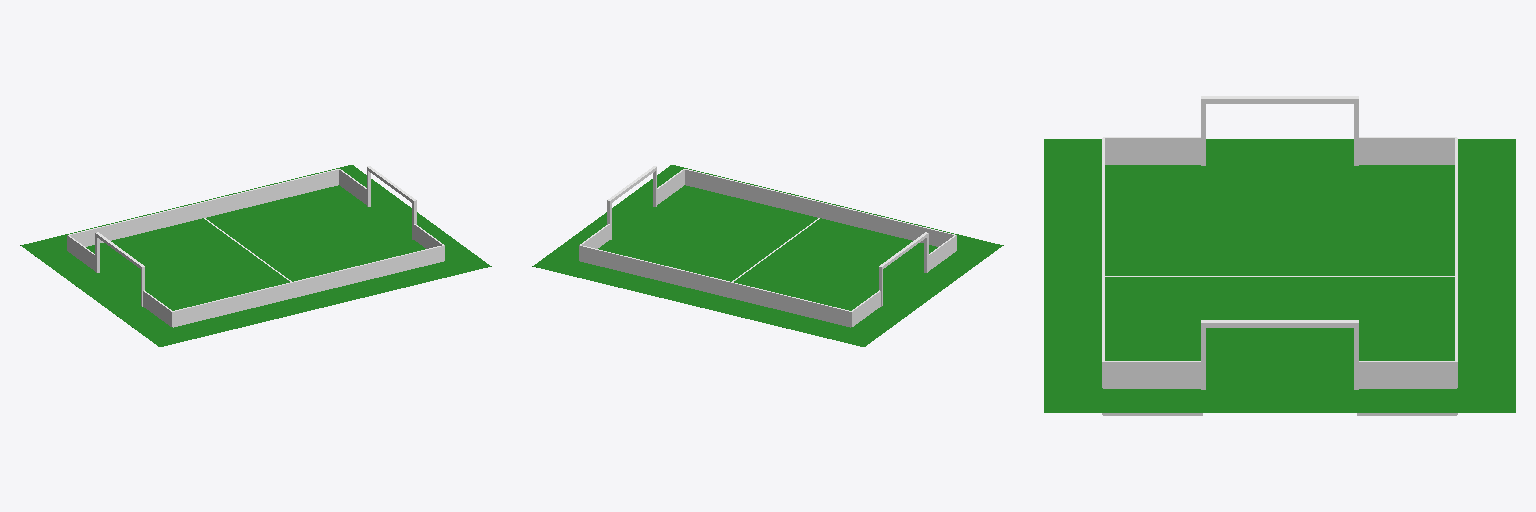
The robot description file, URDF, robot "soccer":
<?xml version="1.0" encoding="utf-8"?>
<!-- =================================================================================== -->
<!-- |    This document was autogenerated by xacro from soccer_robot.xacro             | -->
<!-- |    EDITING THIS FILE BY HAND IS NOT RECOMMENDED                                 | -->
<!-- =================================================================================== -->
<robot name="soccer">
  <material name="white">
    <color rgba="1.0 1.0 1.0 1.0"/>
  </material>
  <material name="green">
    <color rgba="0.2 0.6 0.2 1.0"/>
  </material>
  <material name="blue">
    <color rgba="0.0 0.0 1.0 1.0"/>
  </material>
  <material name="red">
    <color rgba="1.0 0.0 0.0 1.0"/>
  </material>
  <material name="yellow">
    <color rgba="1.0 1.0 0.0 1.0"/>
  </material>
  <link name="field">
    <visual>
      <geometry>
        <box size="11 8 0.001"/>
      </geometry>
      <material name="green"/>
    </visual>
  </link>

  <!-- 左边线 -->
  <joint name="line1_part1_joint" type="fixed">
    <parent link="field"/>
    <child link="line1_part1_link"/>
    <origin xyz="4.5 2.15 0"/>
  </joint>
  <link name="line1_part1_link">
    <visual>
      <geometry>
        <box size="0.05 1.7 1"/>
      </geometry>
      <material name="white"/>
    </visual>
    <inertial>
      <origin xyz="0 0 0" rpy="0 0 0"/>
      <mass value="10.0"/>
      <inertia ixx="0.0" iyy="0.0" izz="0.0" ixy="0.0" ixz="0.0" iyz="0.0"/>
    </inertial>
    <collision>
      <origin rpy="0 0 0" xyz="0 0 0"/>
      <geometry>
        <box size="0.05 1.7 1"/>
      </geometry>
    </collision>
  </link>
  <joint name="line1_part2_joint" type="fixed">
    <parent link="field"/>
    <child link="line1_part2_link"/>
    <origin xyz="4.5 -2.15 0"/>
  </joint>
  <link name="line1_part2_link">
    <visual>
      <geometry>
        <box size="0.05 1.7 1"/>
      </geometry>
      <material name="white"/>
    </visual>
    <inertial>
      <origin xyz="0 0 0" rpy="0 0 0"/>
      <mass value="10.0"/>
      <inertia ixx="0.0" iyy="0.0" izz="0.0" ixy="0.0" ixz="0.0" iyz="0.0"/>
    </inertial>
    <collision>
      <origin rpy="0 0 0" xyz="0 0 0"/>
      <geometry>
        <box size="0.05 1.7 1"/>
      </geometry>
    </collision>
  </link>

  <!-- 右边线 -->
  <joint name="line5_part1_joint" type="fixed">
    <parent link="field"/>
    <child link="line5_part1_link"/>
    <origin xyz="-4.5 -2.15 0"/>
  </joint>
  <link name="line5_part1_link">
    <visual>
      <geometry>
        <box size="0.05 1.7 1"/>
      </geometry>
      <material name="white"/>
    </visual>
    <inertial>
      <origin xyz="0 0 0" rpy="0 0 0"/>
      <mass value="10.0"/>
      <inertia ixx="0.0" iyy="0.0" izz="0.0" ixy="0.0" ixz="0.0" iyz="0.0"/>
    </inertial>
    <collision>
      <origin rpy="0 0 0" xyz="0 0 0"/>
      <geometry>
        <box size="0.05 1.7 1"/>
      </geometry>
    </collision>
  </link>
  <joint name="line5_part2_joint" type="fixed">
    <parent link="field"/>
    <child link="line5_part2_link"/>
    <origin xyz="-4.5 2.15 0"/>
  </joint>
  <link name="line5_part2_link">
    <visual>
      <geometry>
        <box size="0.05 1.7 1"/>
      </geometry>
      <material name="white"/>
    </visual>
    <inertial>
      <origin xyz="0 0 0" rpy="0 0 0"/>
      <mass value="10.0"/>
      <inertia ixx="0.0" iyy="0.0" izz="0.0" ixy="0.0" ixz="0.0" iyz="0.0"/>
    </inertial>
    <collision>
      <origin rpy="0 0 0" xyz="0 0 0"/>
      <geometry>
        <box size="0.05 1.7 1"/>
      </geometry>
    </collision>
  </link>
  

  <joint name="line2_joint" type="fixed">
    <parent link="field"/>
    <child link="line2_link"/>
    <origin xyz="0 3 0"/>
  </joint>
  <link name="line2_link">
    <visual>
      <geometry>
        <box size="9 0.05 1"/>
      </geometry>
      <material name="white"/>
    </visual>
    <inertial>
      <origin xyz="0 0 0" rpy="0 0 0"/>
      <mass value="10.0"/>
      <inertia ixx="0.0" iyy="0.0" izz="0.0" ixy="0.0" ixz="0.0" iyz="0.0"/>
    </inertial>
    <collision>
      <origin rpy="0 0 0" xyz="0 0 0"/>
      <geometry>
        <box size="9 0.05 1"/>
      </geometry>
    </collision>
  </link>

  <joint name="line3_joint" type="fixed">
    <parent link="field"/>
    <child link="line3_link"/>
    <origin xyz="0 -3 0"/>
  </joint>
  <link name="line3_link">
    <visual>
      <geometry>
        <box size="9 0.05 1"/>
      </geometry>
      <material name="white"/>
    </visual>
    <inertial>
      <origin xyz="0 0 0" rpy="0 0 0"/>
      <mass value="10.0"/>
      <inertia ixx="0.0" iyy="0.0" izz="0.0" ixy="0.0" ixz="0.0" iyz="0.0"/>
    </inertial>
    <collision>
      <origin rpy="0 0 0" xyz="0 0 0"/>
      <geometry>
        <box size="9 0.05 1"/>
      </geometry>
    </collision>
  </link>

  <!-- 中线 -->
  <joint name="line4_joint" type="fixed">
    <parent link="field"/>
    <child link="line4_link"/>
  </joint>
  <link name="line4_link">
    <visual>
      <geometry>
        <box size="0.05 6 0.002"/>
      </geometry>
      <material name="white"/>
    </visual>
  </link>
  
  
  
  <joint name="right_goal_post1_joint" type="fixed">
    <parent link="field"/>
    <child link="right_goal_post1_link"/>
    <origin xyz="4.5 -1.3 0.6"/>
  </joint>
  <link name="right_goal_post1_link">
    <visual>
      <geometry>
        <box size="0.10 0.10 1.2"/>
      </geometry>
      <material name="white"/>
    </visual>
    <inertial>
      <origin xyz="0 0 0" rpy="0 0 0"/>
      <mass value="10.0"/>
      <inertia ixx="0.0" iyy="0.0" izz="0.0" ixy="0.0" ixz="0.0" iyz="0.0"/>
    </inertial>
    <collision>
      <origin rpy="0 0 0" xyz="0 0 0"/>
      <geometry>
        <box size="0.10 0.10 1.2"/>
      </geometry>
    </collision>
  </link>
  <joint name="left_goal_post1_joint" type="fixed">
    <parent link="field"/>
    <child link="left_goal_post1_link"/>
    <origin xyz="4.5 1.3 0.6"/>
  </joint>
  <link name="left_goal_post1_link">
    <visual>
      <geometry>
        <box size="0.10 0.10 1.2"/>
      </geometry>
      <material name="white"/>
    </visual>
    <inertial>
      <origin xyz="0 0 0" rpy="0 0 0"/>
      <mass value="10.0"/>
      <inertia ixx="0.0" iyy="0.0" izz="0.0" ixy="0.0" ixz="0.0" iyz="0.0"/>
    </inertial>
    <collision>
      <origin rpy="0 0 0" xyz="0 0 0"/>
      <geometry>
        <box size="0.10 0.10 1.2"/>
      </geometry>
    </collision>
  </link>
  <joint name="top_goal_post1_joint" type="fixed">
    <parent link="field"/>
    <child link="top_goal_post1_link"/>
    <origin xyz="4.5 0 1.2"/>
  </joint>
  <link name="top_goal_post1_link">
    <visual>
      <geometry>
        <box size="0.10 2.7 0.10"/>
      </geometry>
      <material name="white"/>
    </visual>
    <inertial>
      <origin xyz="0 0 0" rpy="0 0 0"/>
      <mass value="10.0"/>
      <inertia ixx="0.0" iyy="0.0" izz="0.0" ixy="0.0" ixz="0.0" iyz="0.0"/>
    </inertial>
    <collision>
      <origin rpy="0 0 0" xyz="0 0 0"/>
      <geometry>
        <box size="0.10 2.7 0.10"/>
      </geometry>
    </collision>
  </link>
  <joint name="right_goal_post2_joint" type="fixed">
    <parent link="field"/>
    <child link="right_goal_post2_link"/>
    <origin xyz="-4.5 -1.3 0.6"/>
  </joint>
  <link name="right_goal_post2_link">
    <visual>
      <geometry>
        <box size="0.10 0.10 1.2"/>
      </geometry>
      <material name="white"/>
    </visual>
    <inertial>
      <origin xyz="0 0 0" rpy="0 0 0"/>
      <mass value="10.0"/>
      <inertia ixx="0.0" iyy="0.0" izz="0.0" ixy="0.0" ixz="0.0" iyz="0.0"/>
    </inertial>
    <collision>
      <origin rpy="0 0 0" xyz="0 0 0"/>
      <geometry>
        <box size="0.10 0.10 1.2"/>
      </geometry>
    </collision>
  </link>
  <joint name="left_goal_post2_joint" type="fixed">
    <parent link="field"/>
    <child link="left_goal_post2_link"/>
    <origin xyz="-4.5 1.3 0.6"/>
  </joint>
  <link name="left_goal_post2_link">
    <visual>
      <geometry>
        <box size="0.10 0.10 1.2"/>
      </geometry>
      <material name="white"/>
    </visual>
    <inertial>
      <origin xyz="0 0 0" rpy="0 0 0"/>
      <mass value="10.0"/>
      <inertia ixx="0.0" iyy="0.0" izz="0.0" ixy="0.0" ixz="0.0" iyz="0.0"/>
    </inertial>
    <collision>
      <origin rpy="0 0 0" xyz="0 0 0"/>
      <geometry>
        <box size="0.10 0.10 1.2"/>
      </geometry>
    </collision>
  </link>
  <joint name="top_goal_post2_joint" type="fixed">
    <parent link="field"/>
    <child link="top_goal_post2_link"/>
    <origin xyz="-4.5 0 1.2"/>
  </joint>
  <link name="top_goal_post2_link">
    <visual>
      <geometry>
        <box size="0.10 2.7 0.10"/>
      </geometry>
      <material name="white"/>
    </visual>
    <inertial>
      <origin xyz="0 0 0" rpy="0 0 0"/>
      <mass value="10.0"/>
      <inertia ixx="0.0" iyy="0.0" izz="0.0" ixy="0.0" ixz="0.0" iyz="0.0"/>
    </inertial>
    <collision>
      <origin rpy="0 0 0" xyz="0 0 0"/>
      <geometry>
        <box size="0.10 2.7 0.10"/>
      </geometry>
    </collision>
  </link>
  
</robot>

--- What the picture shows (computed from the rendered views, not written in the file) ---
The picture shows the robot from 3 angles, left to right: view 1: azimuth 30°, elevation 25°; view 2: azimuth 150°, elevation 25°; view 3: azimuth 270°, elevation 25°; orthographic projection.
Robot: soccer — 14 links, 13 joints (13 fixed); root link field; default pose: every joint at zero.
Links seen in each view (by area): view 1: field, line3_link, line2_link; view 2: field, line2_link, line3_link; view 3: field, line1_part1_link, line1_part2_link, line5_part1_link, line5_part2_link, top_goal_post2_link, top_goal_post1_link, line2_link, line3_link.
Boxes of the visible links, x1,y1,x2,y2 form: field: (20, 165, 491, 346); line3_link: (172, 245, 443, 327); line2_link: (69, 169, 338, 246); field: (532, 165, 1003, 346); line2_link: (580, 245, 851, 327); line3_link: (685, 169, 954, 246); field: (1044, 139, 1515, 412); line1_part1_link: (1357, 361, 1456, 415); line1_part2_link: (1103, 361, 1202, 415); line5_part1_link: (1103, 137, 1200, 164); line5_part2_link: (1359, 137, 1456, 164); top_goal_post2_link: (1201, 96, 1358, 103); top_goal_post1_link: (1201, 320, 1358, 327); line2_link: (1455, 138, 1457, 414); line3_link: (1102, 138, 1104, 414).
Size in the robot's own frame: 11 by 8 by 1.75 metres.
Geometry: primitives only (box / cylinder / sphere), no mesh files.
